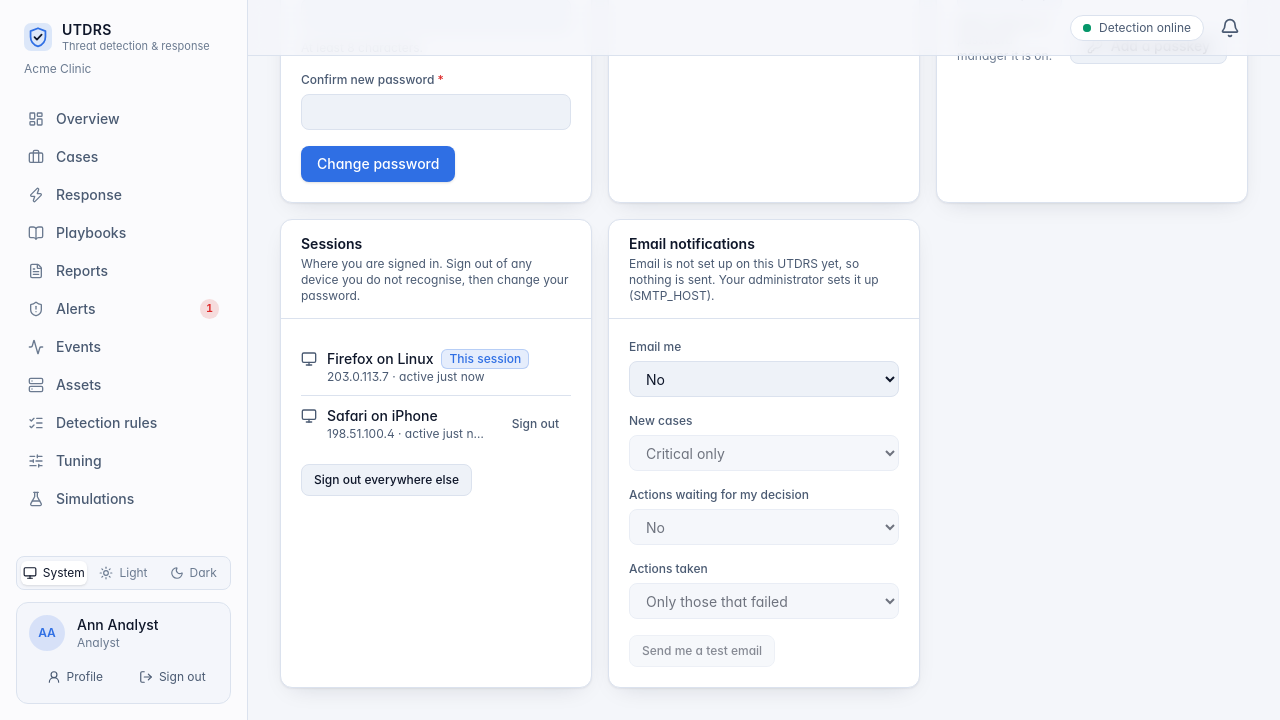
Test: sessions › lists where you are signed in and signs out the others
(page scrolled)
Expected: the text "Safari on iPhone" is shown, [327,407,438,424]
Expected: the text "This session" is shown, [442,349,529,369]
Click the button with aria-label "Sign out Safari on iPhone" at (535, 424), box [500,408,571,440]
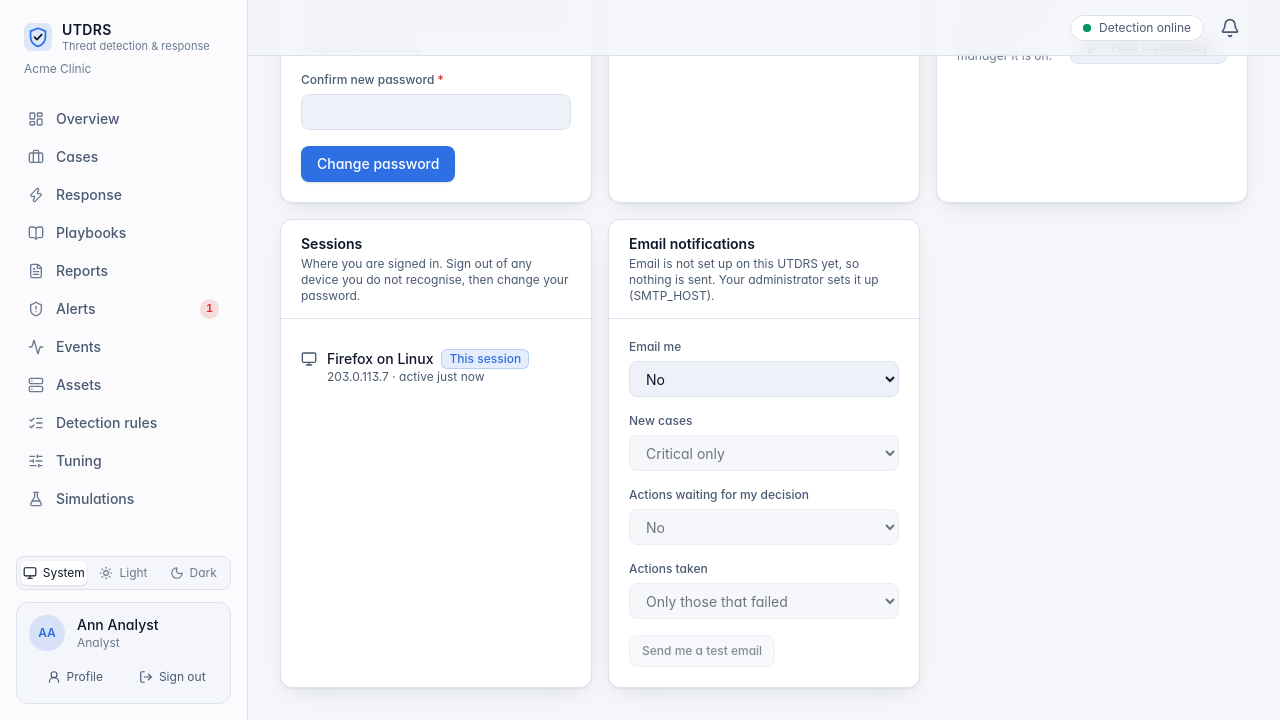
Expected: the text "Safari on iPhone" is gone
Expected: the button "Sign out everywhere else" is gone
